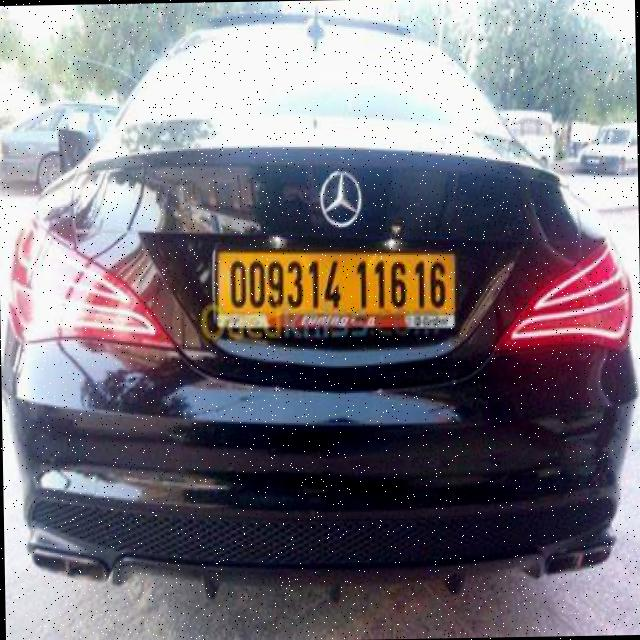Autre: (211, 249, 455, 323)
